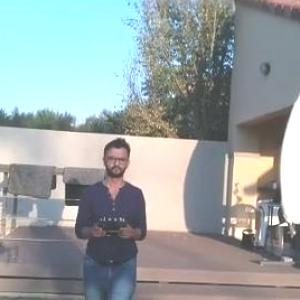follow: (69, 131, 154, 299)
